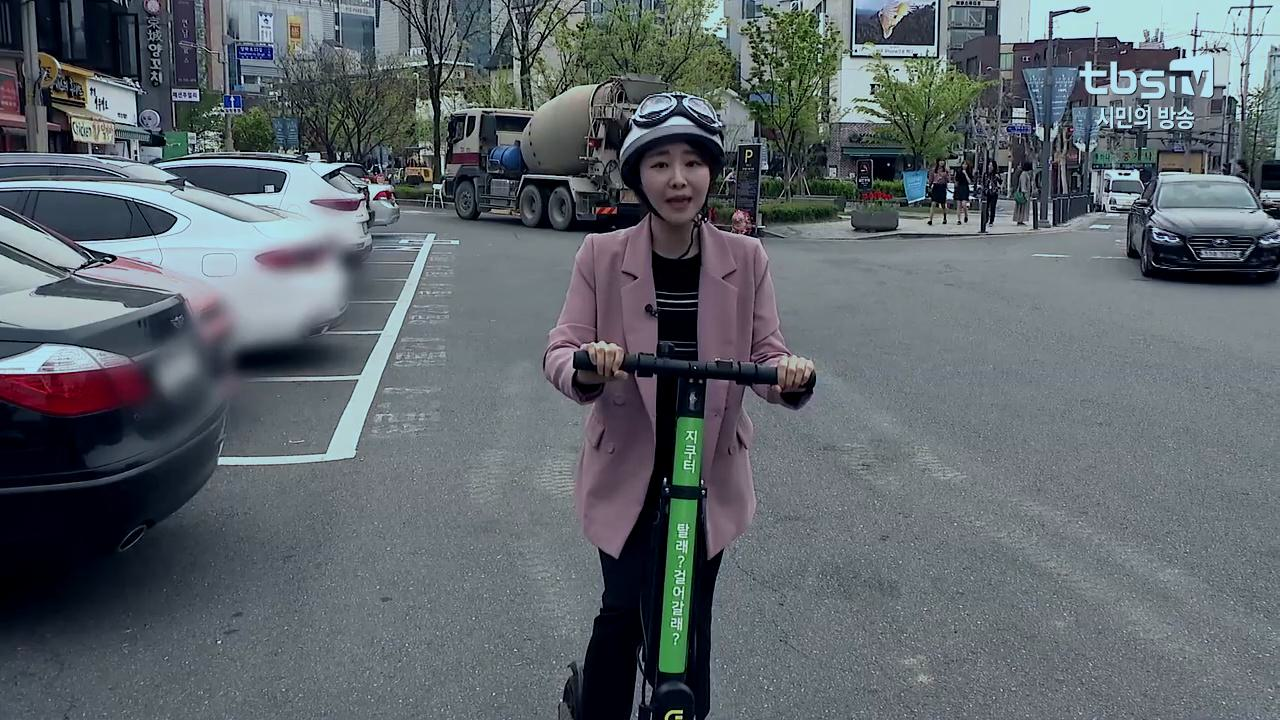helmet: (539, 89, 822, 720)
